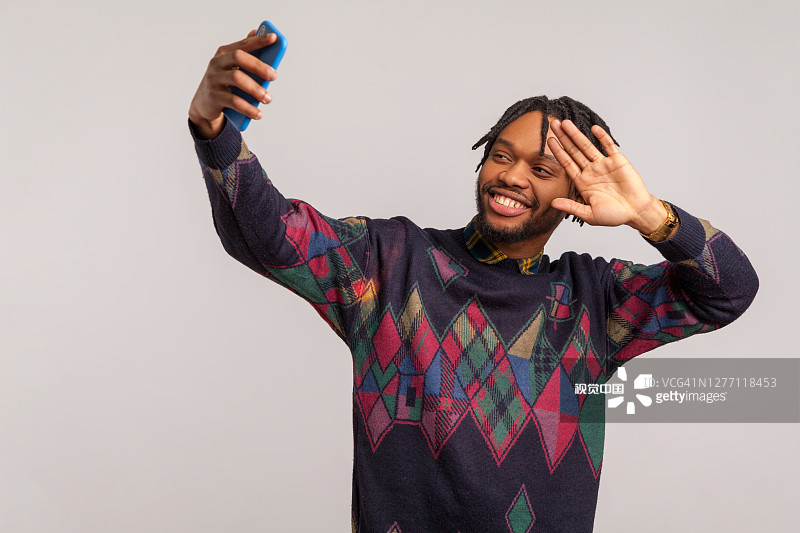no-phone: (544, 113, 652, 246)
taking photos: (175, 12, 301, 152)
